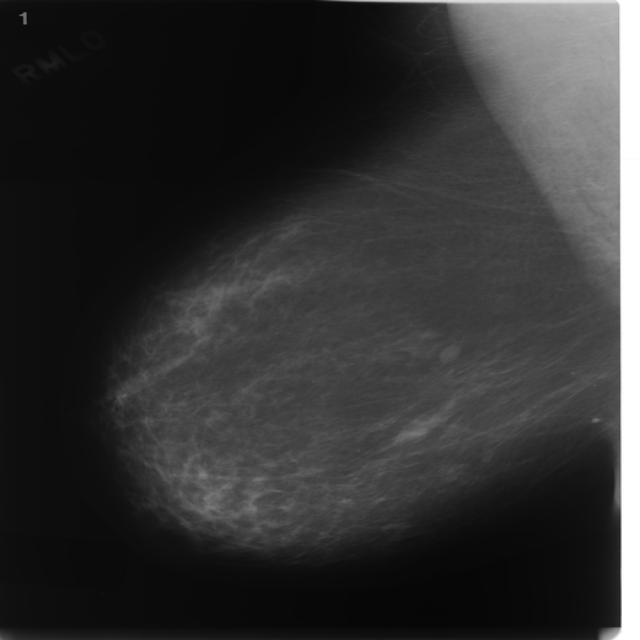tumour: (438, 342, 460, 362)
